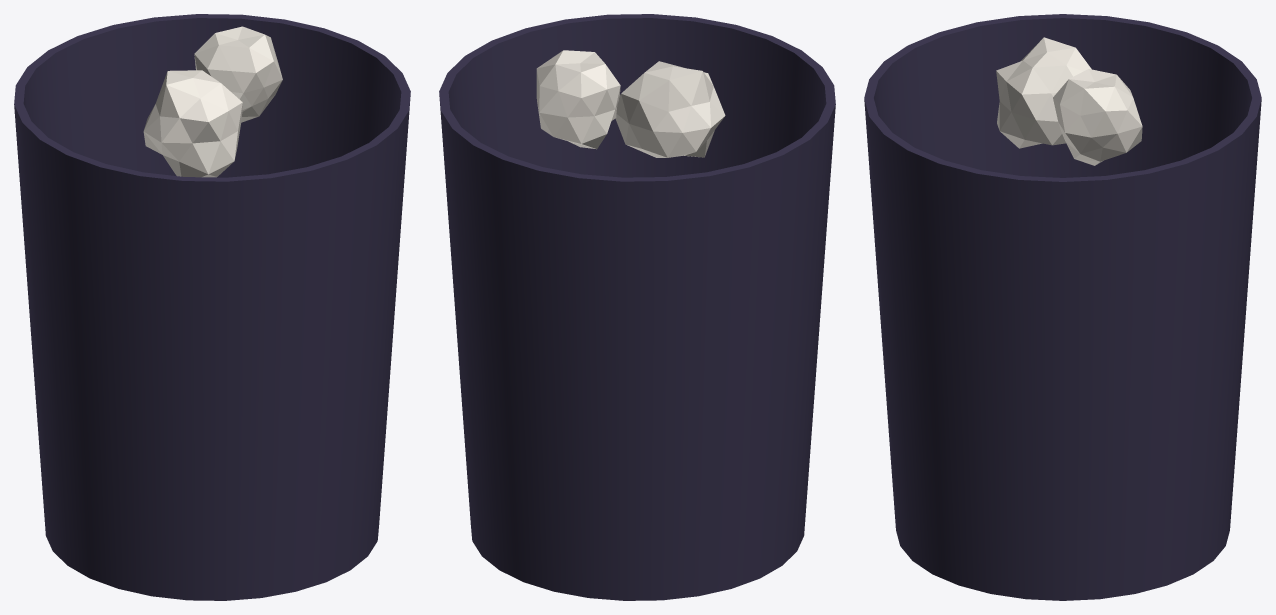
Rendered from waste_bin.fbx.
3 renders of one model, left to right at view 1: azimuth 30°, elevation 25°; view 2: azimuth 150°, elevation 25°; view 3: azimuth 270°, elevation 25°, orthographic.
Parts seen in each view (by area): view 1: waste_bin; view 2: waste_bin; view 3: waste_bin.
Part boxes in pixels (bbox=[...]): waste_bin: bbox=[14, 14, 410, 600]; waste_bin: bbox=[439, 14, 835, 600]; waste_bin: bbox=[864, 14, 1261, 600].
Size of the model in its own units: 0.25 by 0.3278 by 0.25.
